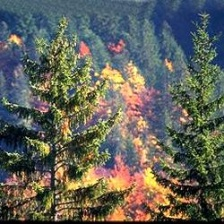neutral: (2, 1, 224, 220)
